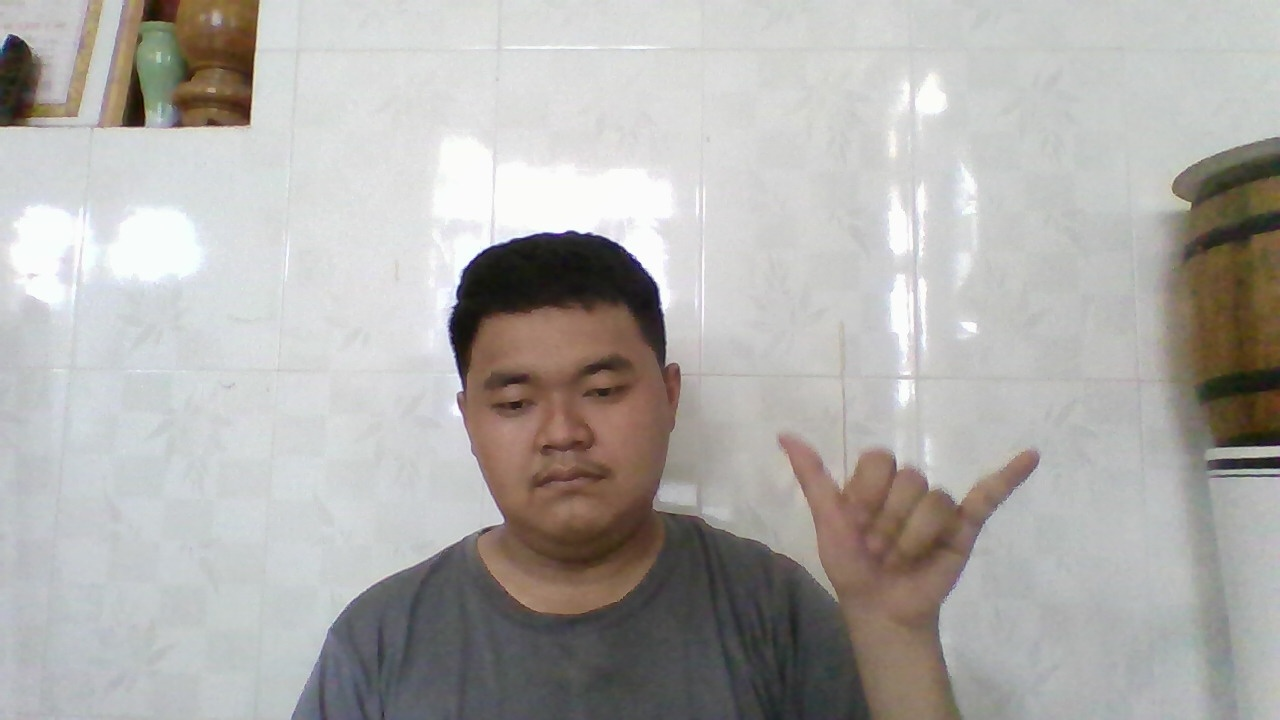Y: (774, 426, 1047, 628)
